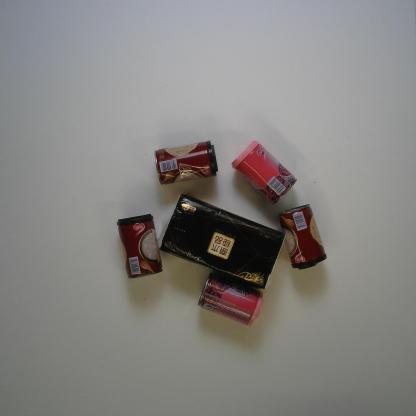Canned Food: (230, 137, 298, 206), (195, 271, 266, 328), (114, 213, 165, 280), (279, 202, 327, 271), (153, 139, 218, 187)
Tissue: (156, 189, 286, 290)
